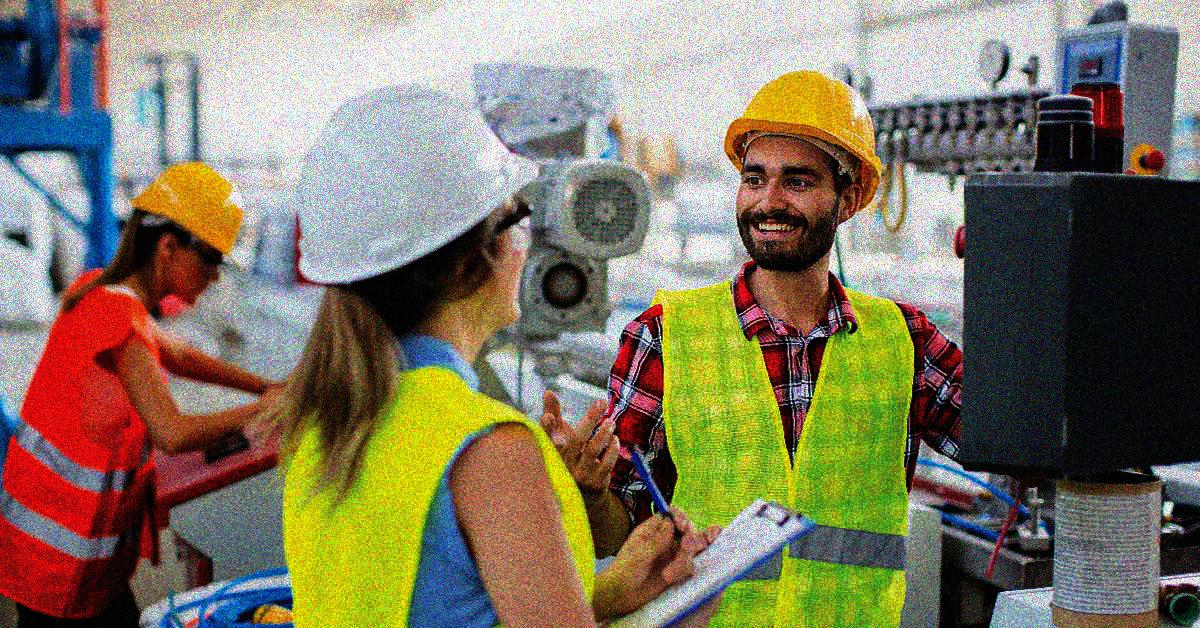helmet: (291, 79, 536, 338), (721, 72, 886, 271), (132, 161, 253, 307)
